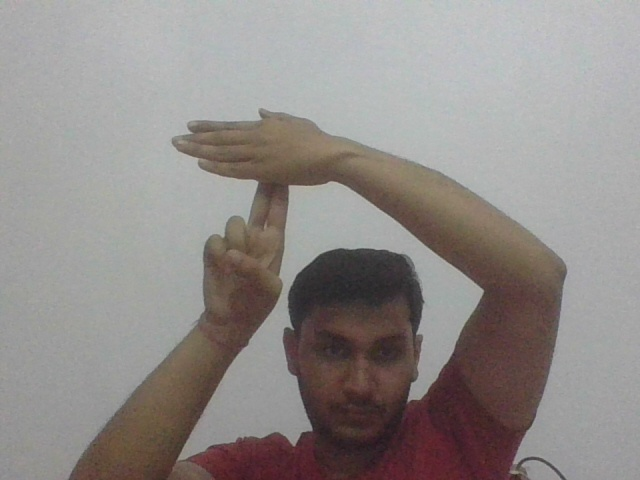N: (170, 106, 332, 235)
